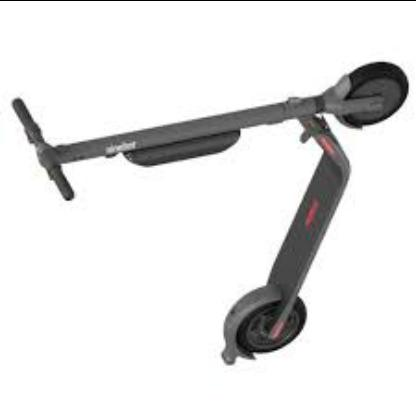bike: (9, 61, 410, 366)
